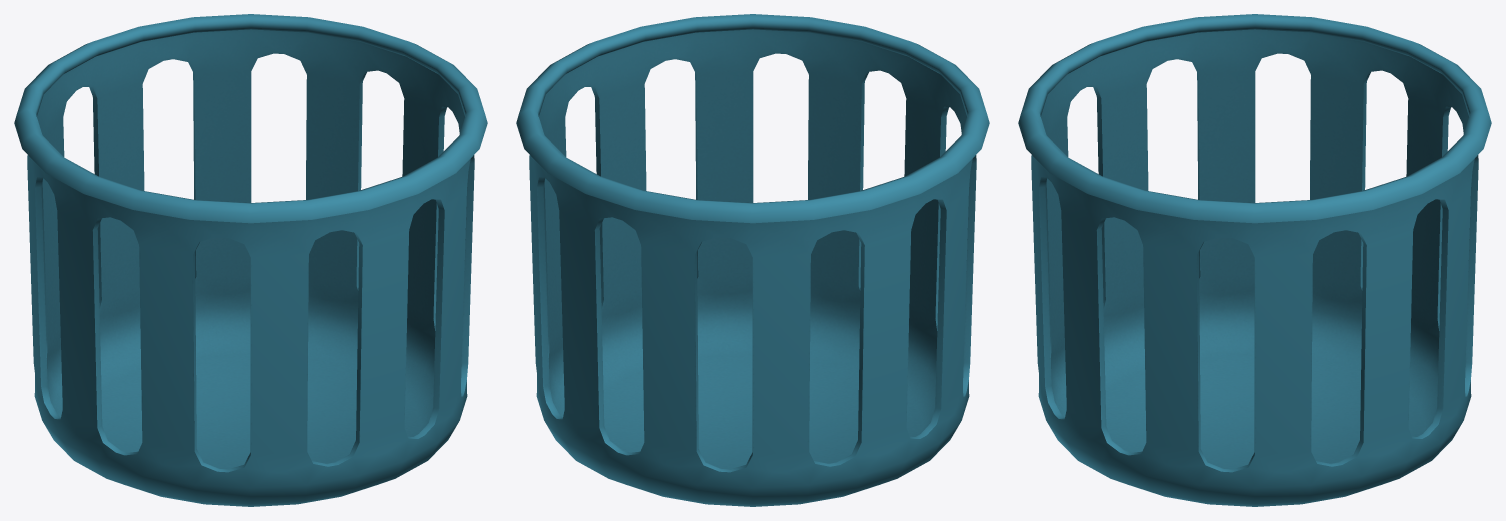
The model's file is 80s_basket_01.fbx.
3 views of the same model, side by side, from view 1: azimuth 30°, elevation 25°; view 2: azimuth 150°, elevation 25°; view 3: azimuth 270°, elevation 25° (orthographic).
Parts seen in each view (by area): view 1: 80s_basket_01; view 2: 80s_basket_01; view 3: 80s_basket_01.
Part boxes in pixels (<box>): 80s_basket_01: <box>14,14,487,506</box>; 80s_basket_01: <box>516,14,989,506</box>; 80s_basket_01: <box>1018,14,1491,506</box>.
Size of the model in its own units: 115 by 86.54 by 115.
